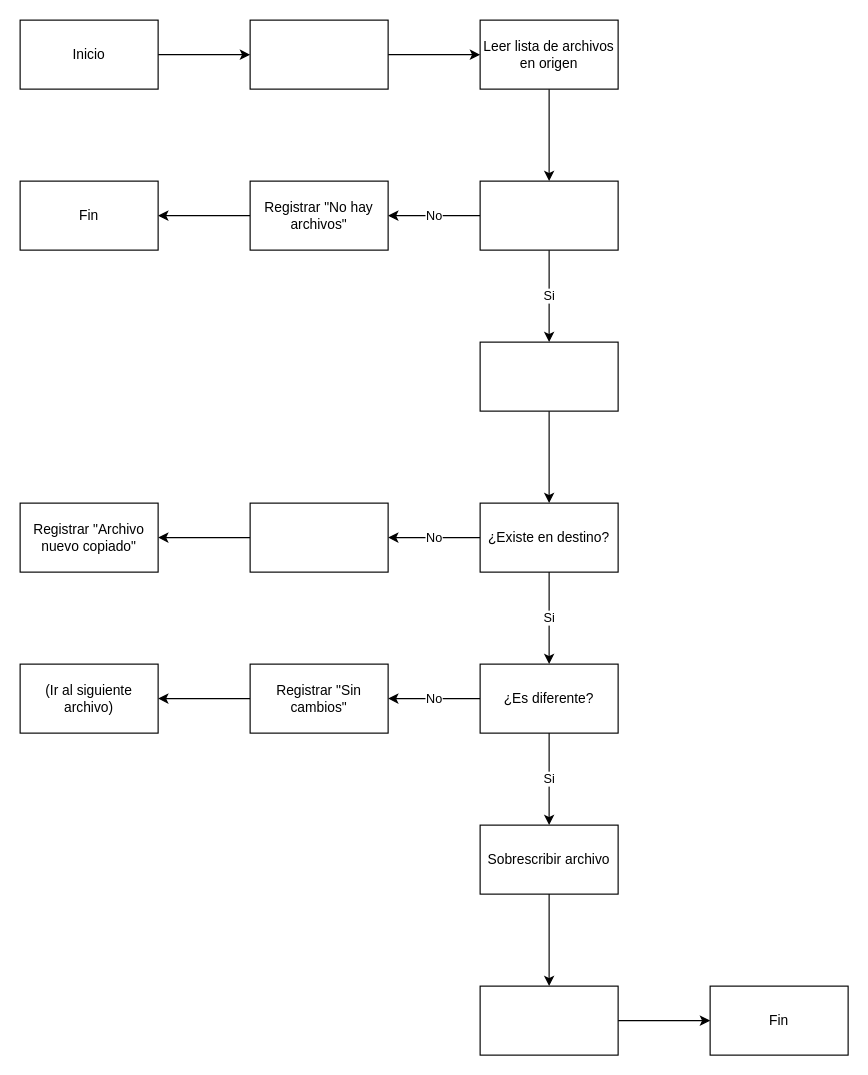
This 868x1075 diagram has some shape labels left out. Each missing label, with the box of its shape:
Copiar archivo nuevo: (249, 502, 388, 572)
Obtener ruta de origen: (249, 19, 388, 89)
Para cada archivo en origen: (479, 341, 618, 411)
Registrar "Archivo actualizado": (479, 985, 618, 1055)
¿Hay archivos?: (479, 180, 618, 250)
